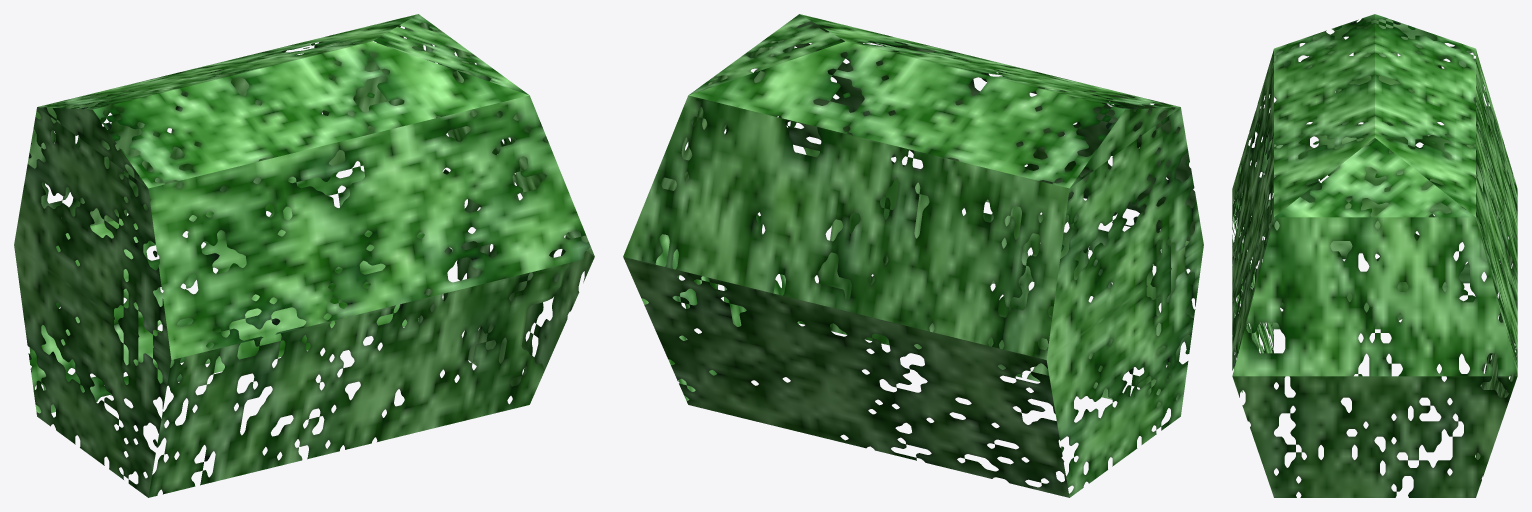
The model's file is bush_long_half_open_right_spring.fbx.
3 renders of one model, left to right at view 1: azimuth 30°, elevation 25°; view 2: azimuth 150°, elevation 25°; view 3: azimuth 270°, elevation 25°, orthographic. The views are drawn at different scales.
Visible parts, largest first — view 1: bush_long_half_open_right_spring; view 2: bush_long_half_open_right_spring; view 3: bush_long_half_open_right_spring.
Boxes of the visible parts, left/top/right/bottom form: bush_long_half_open_right_spring: left=14, top=14, right=594, bottom=497; bush_long_half_open_right_spring: left=623, top=14, right=1203, bottom=497; bush_long_half_open_right_spring: left=1232, top=14, right=1517, bottom=497.
Bounding box in the file's own units: 112 × 87.65 × 71.91.
1 material, 1 textured.
